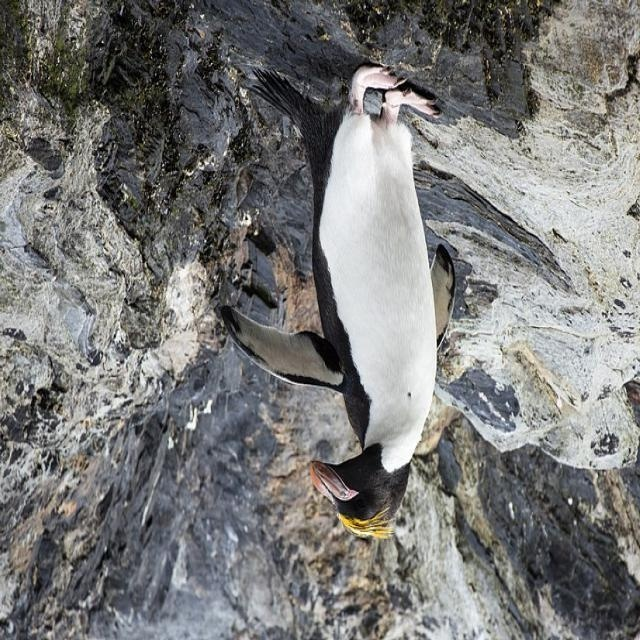penguin: (217, 59, 457, 537)
